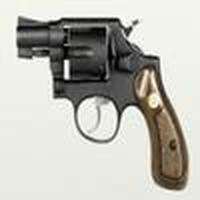gun: (16, 13, 192, 190)
